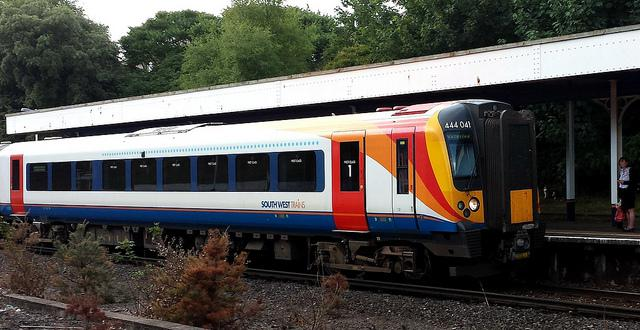Train: (1, 99, 548, 286)
